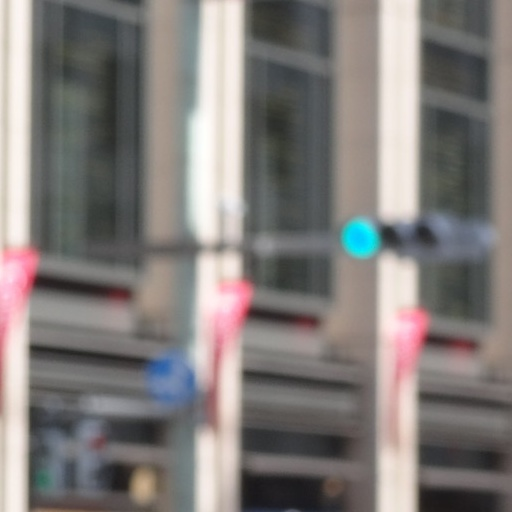Traffic_Signal_Blue: (333, 208, 479, 262)
